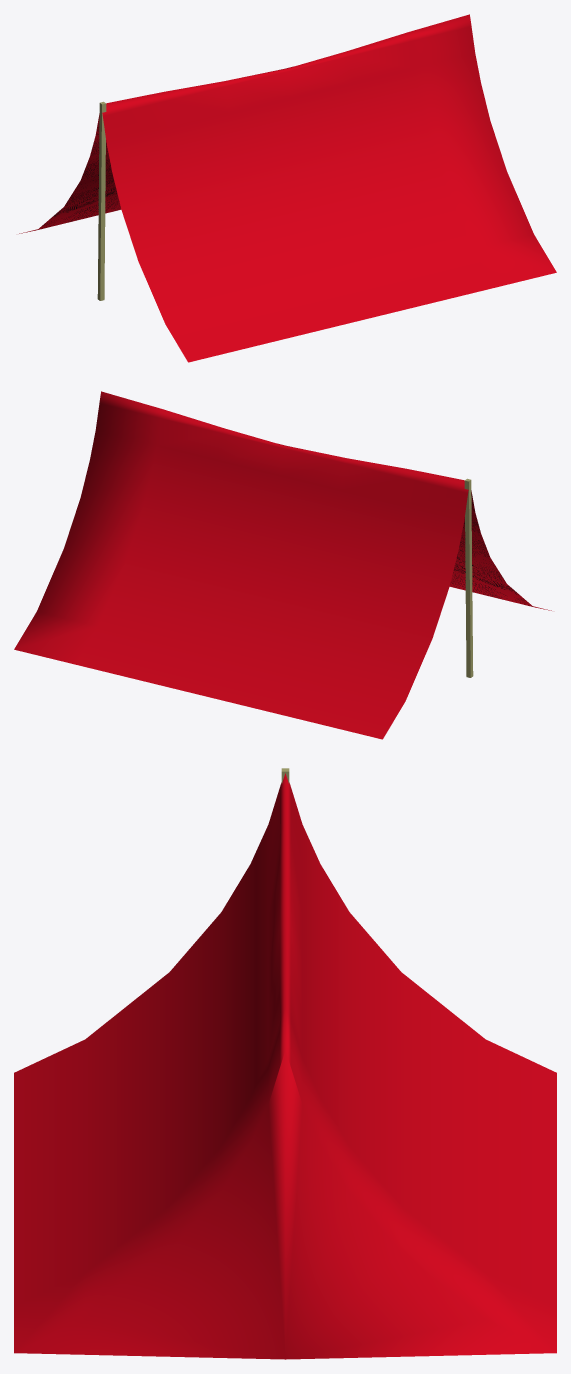
File: Tent_1.fbx
The picture shows the model from 3 angles, top to bottom: view 1: azimuth 30°, elevation 25°; view 2: azimuth 150°, elevation 25°; view 3: azimuth 270°, elevation 25°; orthographic projection. The views are drawn at different scales.
Visible parts, largest first — view 1: Tent_Top, Poles, Tent_Bottom; view 2: Tent_Top, Poles, Tent_Bottom; view 3: Tent_Top.
Boxes of the visible parts, <box> form: Tent_Top: <box>19,14,556,362</box>; Poles: <box>97,101,106,300</box>; Tent_Bottom: <box>42,123,119,227</box>; Tent_Top: <box>14,391,551,739</box>; Poles: <box>464,478,473,677</box>; Tent_Bottom: <box>451,495,532,606</box>; Tent_Top: <box>14,773,556,1359</box>.
Size of the model in its own units: 299 by 148 by 238.
